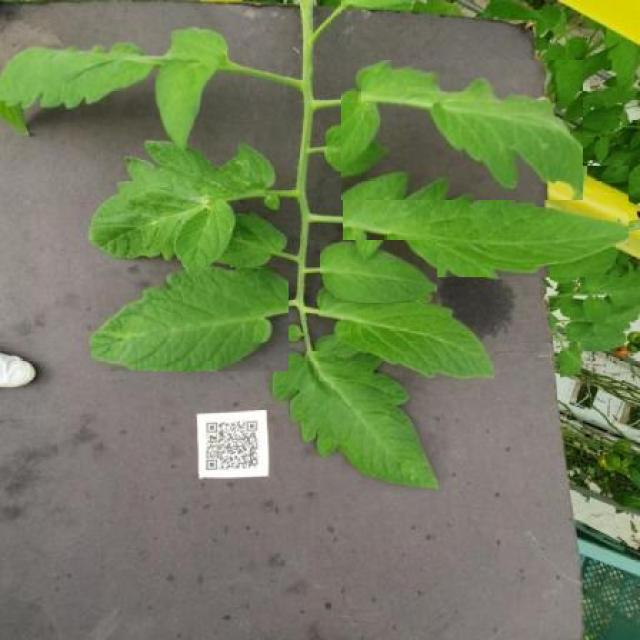Healthy: (340, 60, 583, 200), (343, 166, 628, 277), (0, 23, 226, 148), (268, 334, 441, 492), (92, 267, 288, 372), (319, 280, 494, 381), (320, 240, 437, 304)
